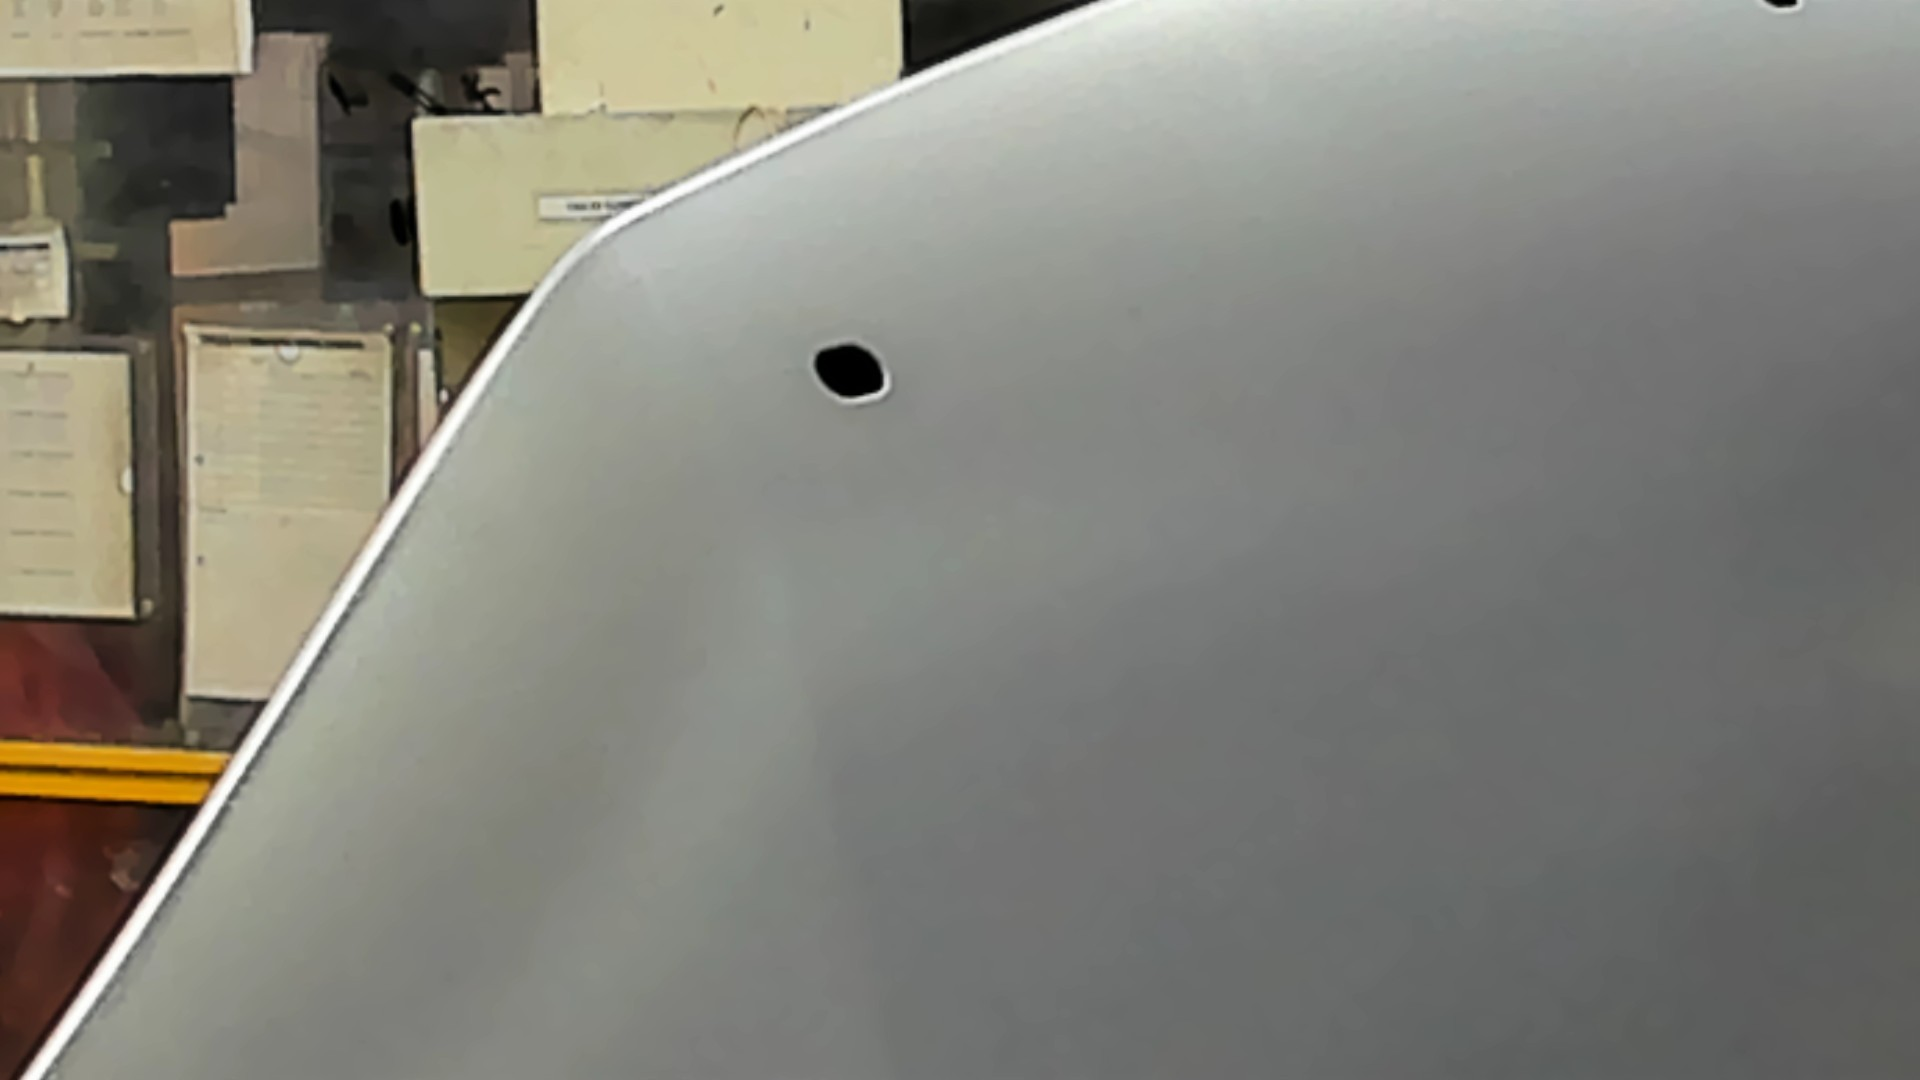amorfo: (804, 332, 897, 417), (1750, 1, 1813, 17)
